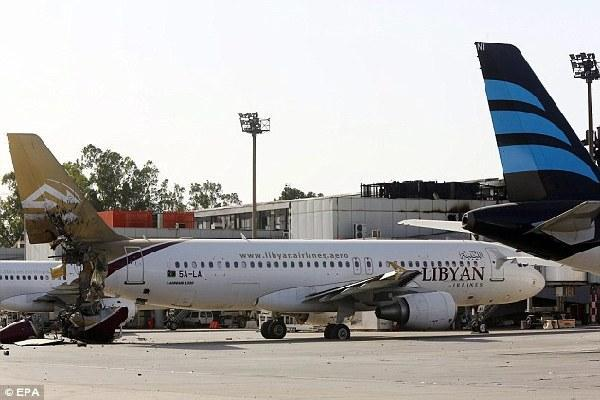airplane: (1, 131, 548, 329)
